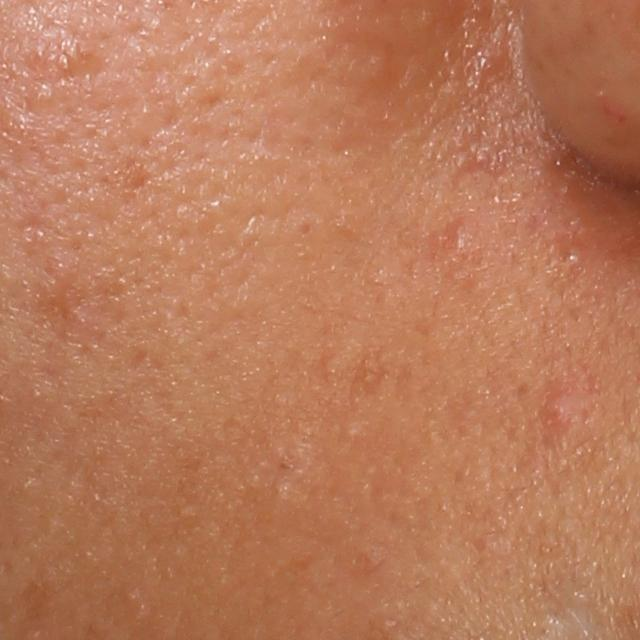papule: (535, 379, 582, 433), (442, 218, 469, 254)
